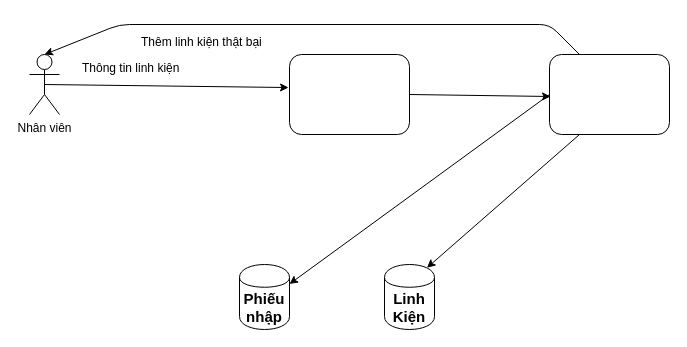
The diagram is 687 pixels wide and 347 high, and some of its shapes have lost their labels. Here are the shapes that lost their labels. From the top down, the centre of each, then its label:
At (349,94): "Tiếp nhận thông tin linh kiện".
At (609,94): "Kiểm tra linh kiện".
